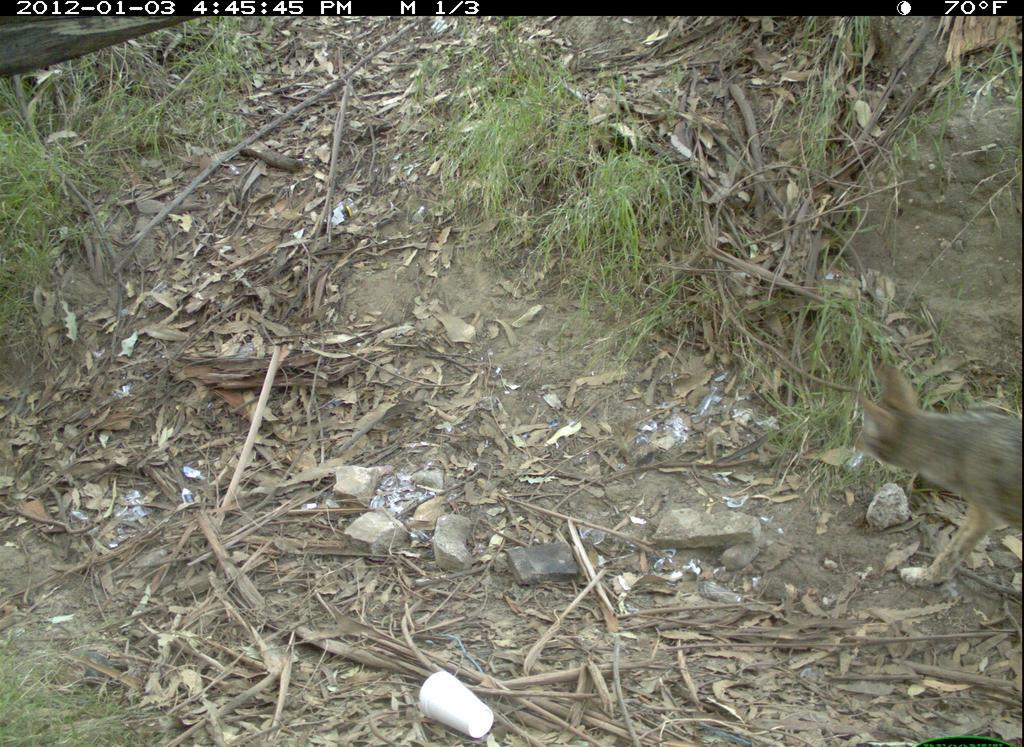coyote: (845, 355, 1023, 609)
